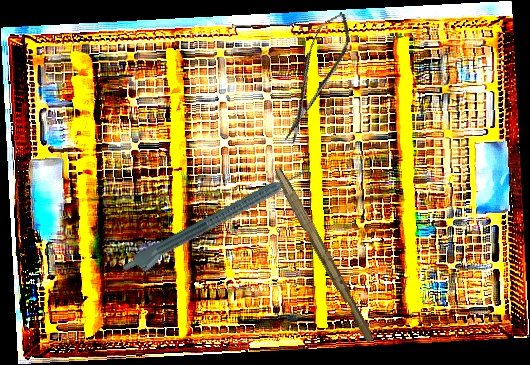Handpiece: (118, 164, 314, 283)
Micro Scissor: (270, 6, 360, 148)
Scalpel Handle: (268, 167, 379, 344)
